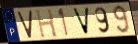1: (57, 7, 71, 38)
9: (112, 4, 131, 35), (94, 6, 111, 35)
H: (35, 9, 58, 39)
V: (71, 7, 91, 36), (16, 9, 33, 40)
